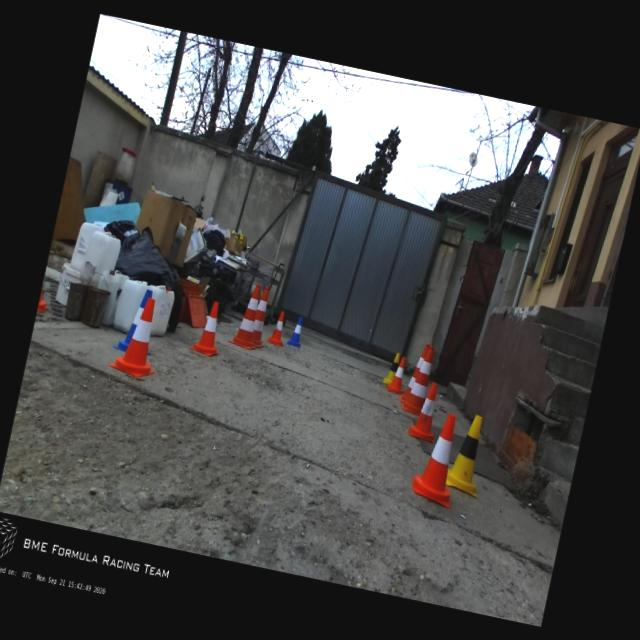blue_cone: (113, 284, 163, 356), (286, 314, 306, 348)
large_orange_cone: (399, 342, 437, 416), (228, 280, 268, 350), (398, 340, 430, 406), (248, 284, 276, 348)
orange_cone: (408, 409, 469, 508), (108, 292, 170, 379), (406, 378, 446, 444), (189, 298, 229, 358), (386, 355, 410, 394), (266, 310, 288, 346)
yellow_cone: (442, 412, 493, 498), (382, 350, 401, 386)
